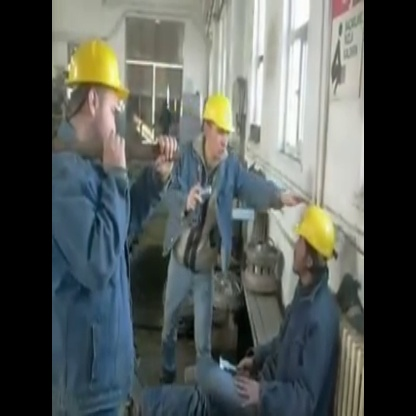safety_helmet: (64, 38, 130, 101), (295, 204, 337, 260), (202, 93, 235, 133)
